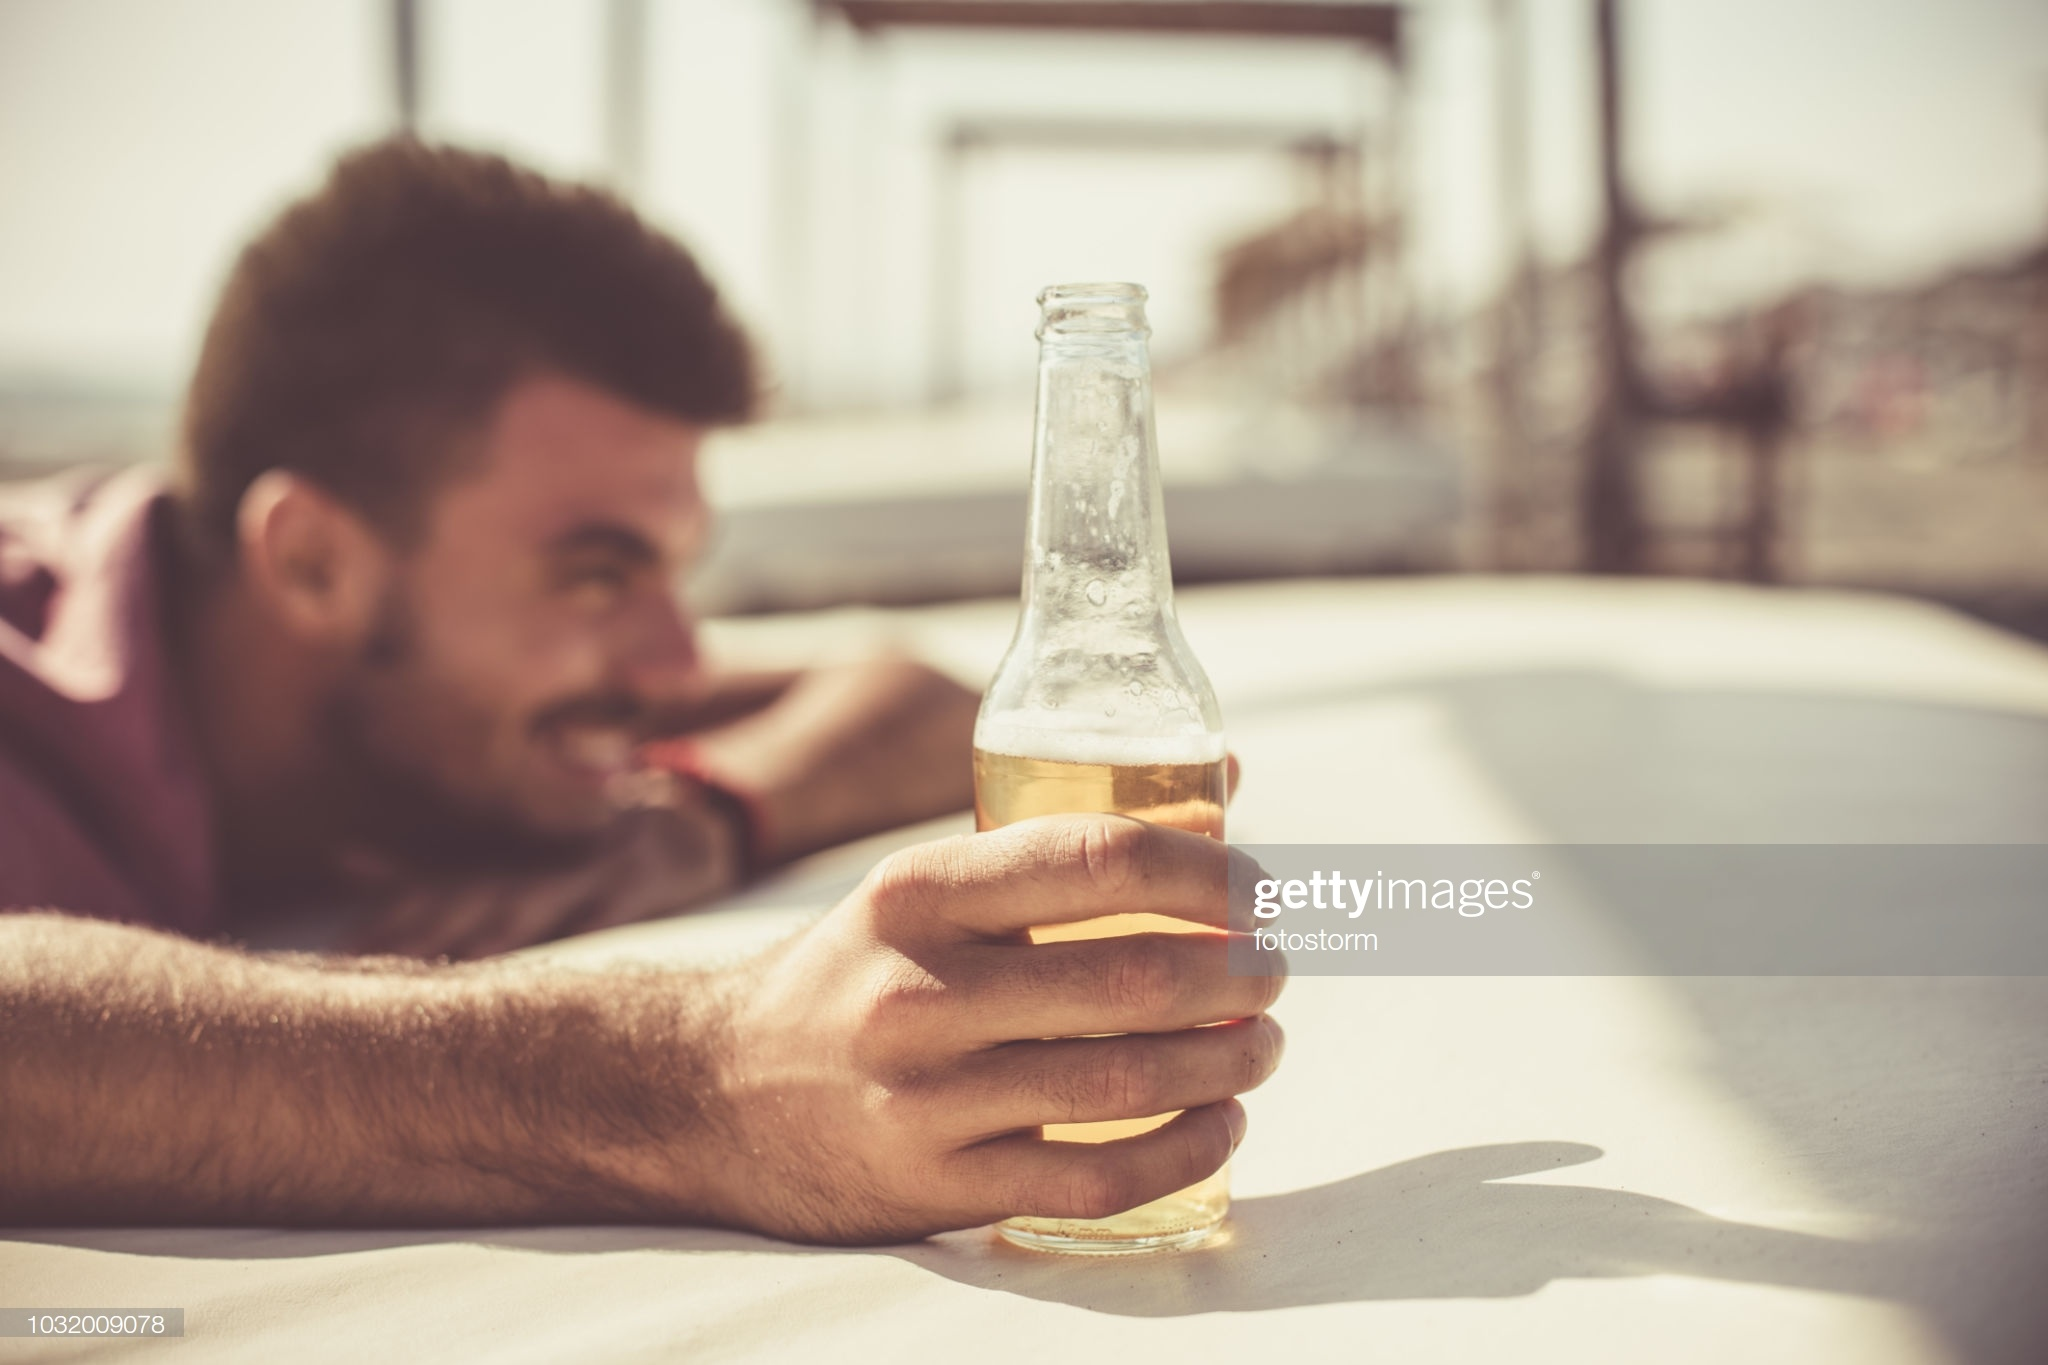beerBottle: (982, 271, 1238, 1255)
